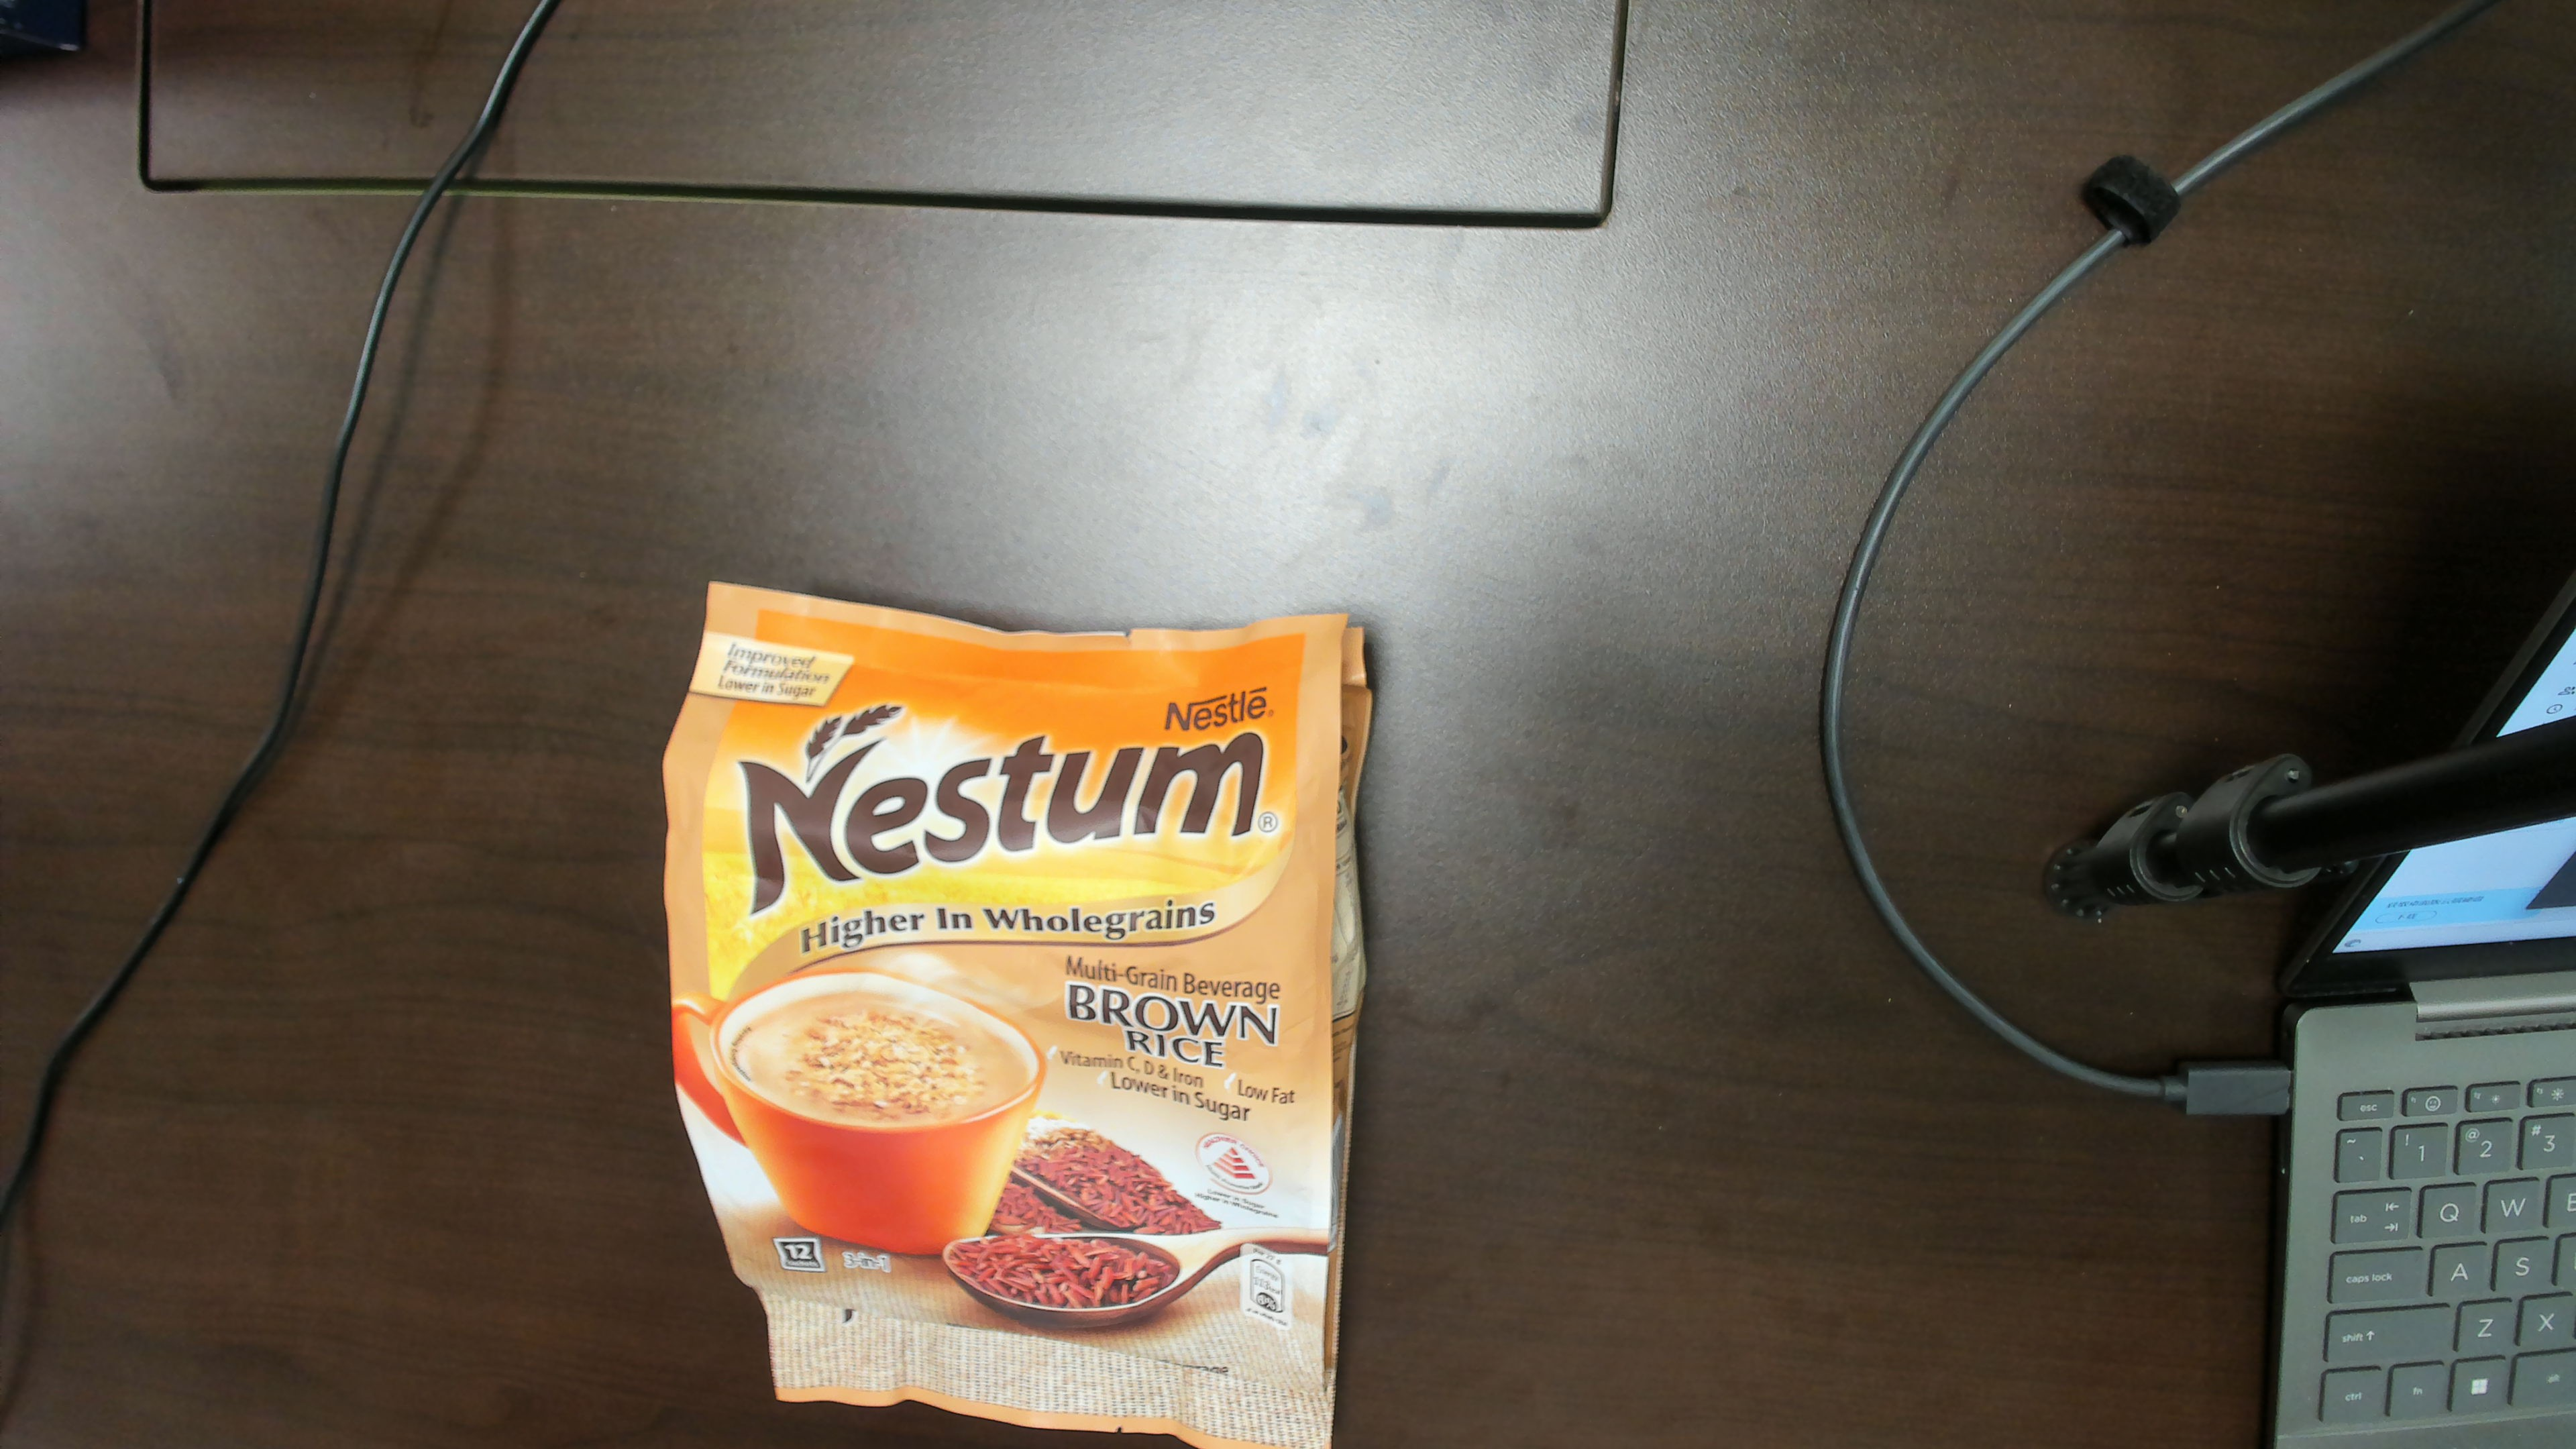CerealBeverage-powder_300-399g_NonHalal_Healthy: (766, 679, 1306, 1322)
